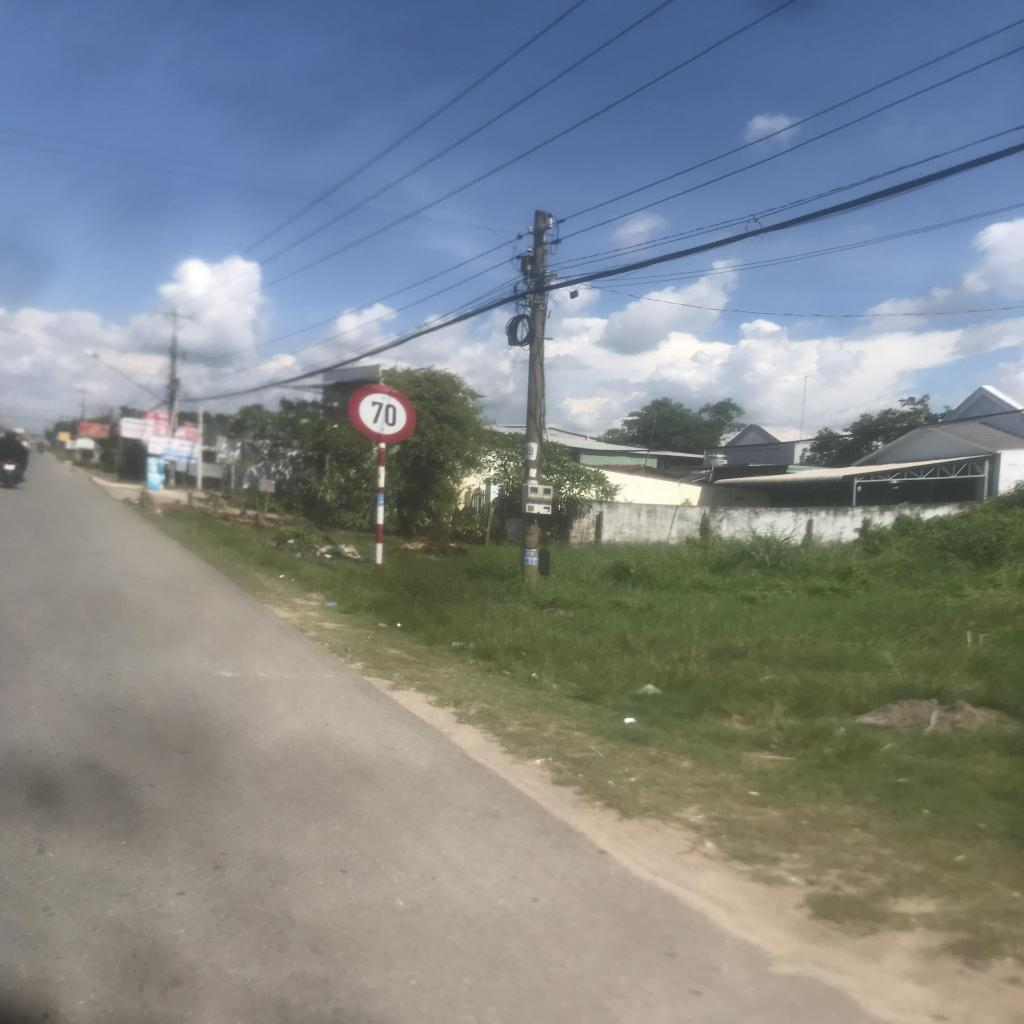khac: (346, 384, 420, 444)
